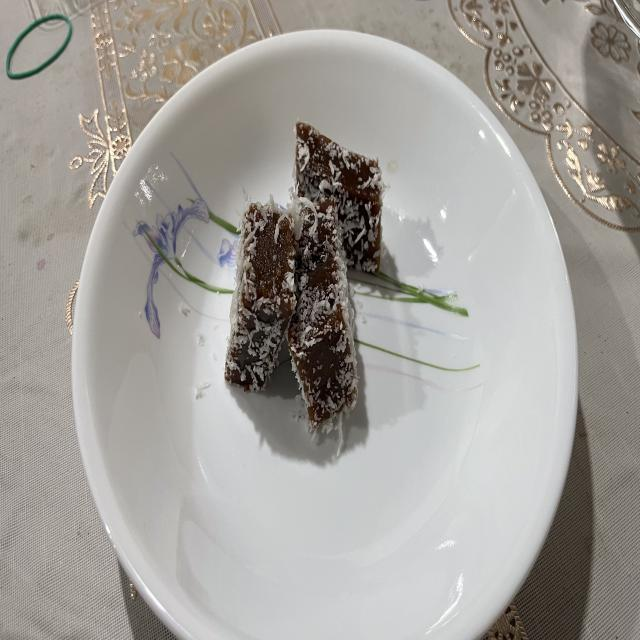kaswi: (288, 193, 358, 431), (225, 196, 296, 391), (295, 122, 385, 273)
